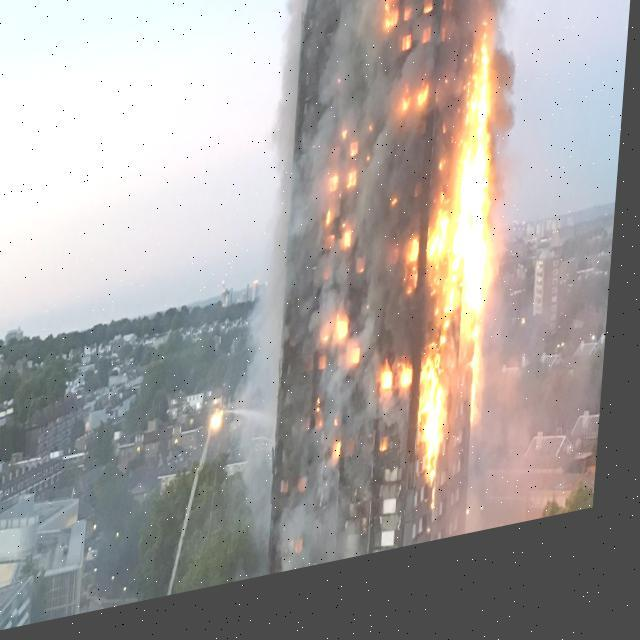Fire: (320, 0, 532, 526)
